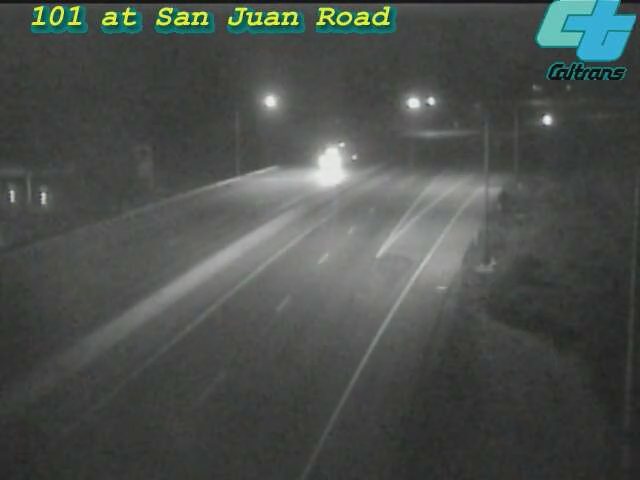vehicle: (306, 134, 356, 184), (519, 96, 569, 146)
